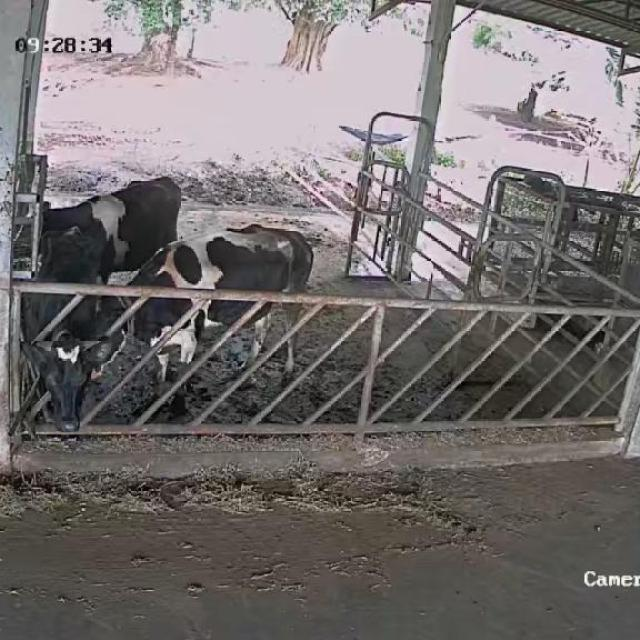drinking: (8, 175, 171, 287)
feeding: (24, 226, 127, 434)
standing: (81, 224, 316, 408)
